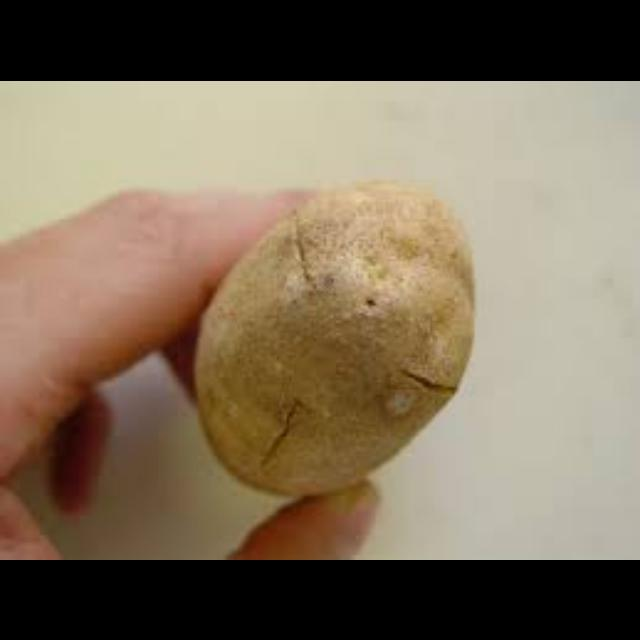Damaged potato: (185, 174, 480, 498)
